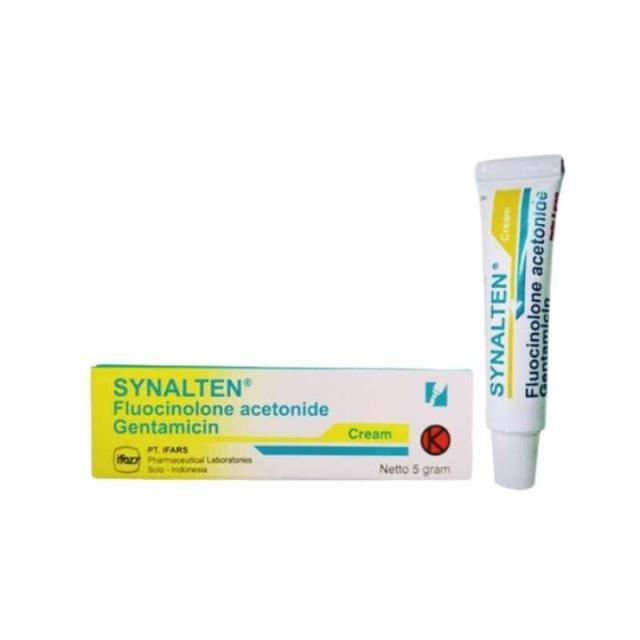drug-name: (107, 377, 250, 398)
